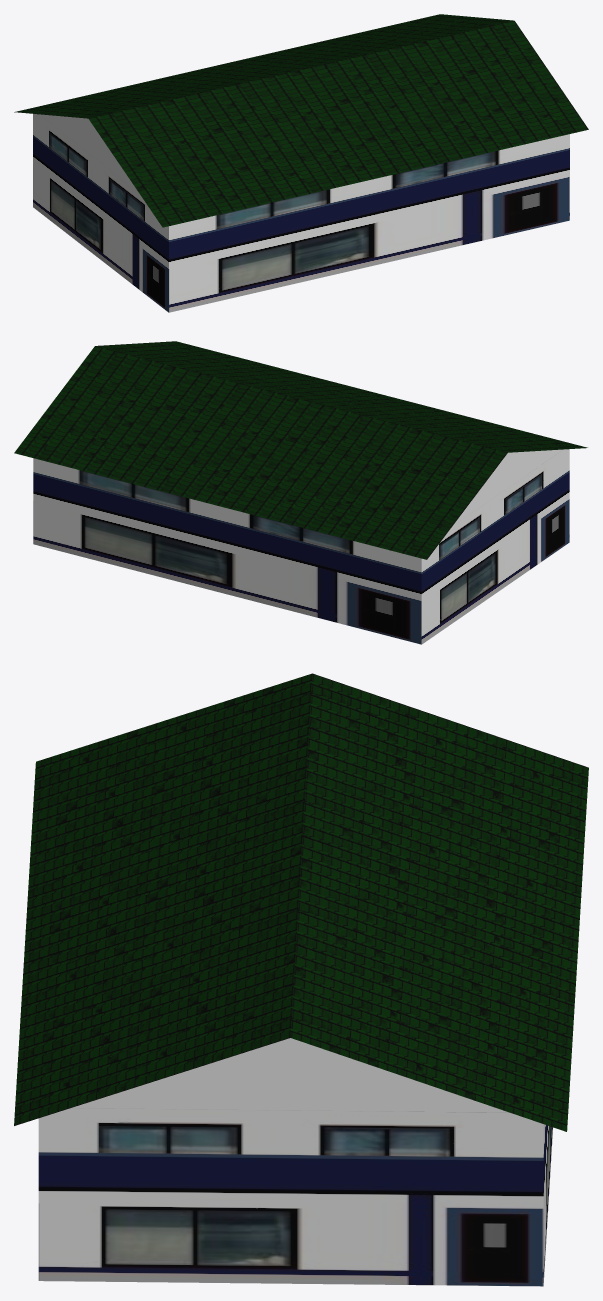
3 views of the same model, one above another, from view 1: azimuth 30°, elevation 25°; view 2: azimuth 150°, elevation 25°; view 3: azimuth 270°, elevation 25° (orthographic). The views are drawn at different scales.
Visible parts, largest first — view 1: CityEngineMaterial_13_m, CityEngineMaterial_2_m, CityEngineMaterial_3_m; view 2: CityEngineMaterial_13_m, CityEngineMaterial_2_m, CityEngineMaterial_3_m; view 3: CityEngineMaterial_13_m, CityEngineMaterial_2_m, CityEngineMaterial_3_m.
Boxes of the visible parts, left/top/right/bottom form: CityEngineMaterial_13_m: left=14, top=14, right=588, bottom=227; CityEngineMaterial_2_m: left=33, top=114, right=569, bottom=312; CityEngineMaterial_3_m: left=39, top=114, right=137, bottom=190; CityEngineMaterial_13_m: left=14, top=341, right=587, bottom=559; CityEngineMaterial_2_m: left=33, top=449, right=569, bottom=644; CityEngineMaterial_3_m: left=453, top=449, right=562, bottom=525; CityEngineMaterial_13_m: left=14, top=673, right=588, bottom=1131; CityEngineMaterial_2_m: left=38, top=1108, right=553, bottom=1286; CityEngineMaterial_3_m: left=72, top=1038, right=508, bottom=1112.
Size of the model in its own units: 34.16 by 11.04 by 22.41.
